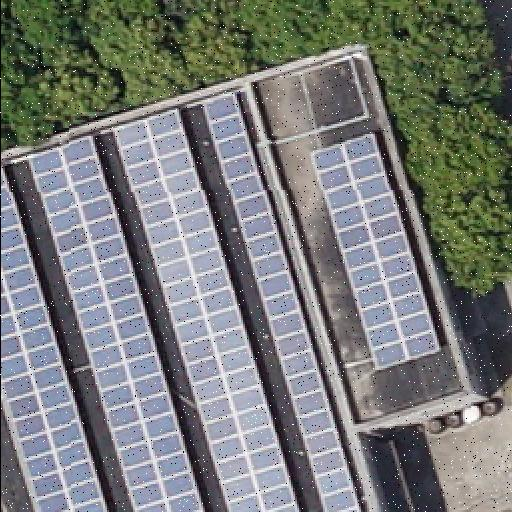solar-panel: (112, 108, 296, 512), (24, 134, 204, 512), (202, 92, 358, 512), (0, 166, 108, 512), (305, 130, 439, 374)
